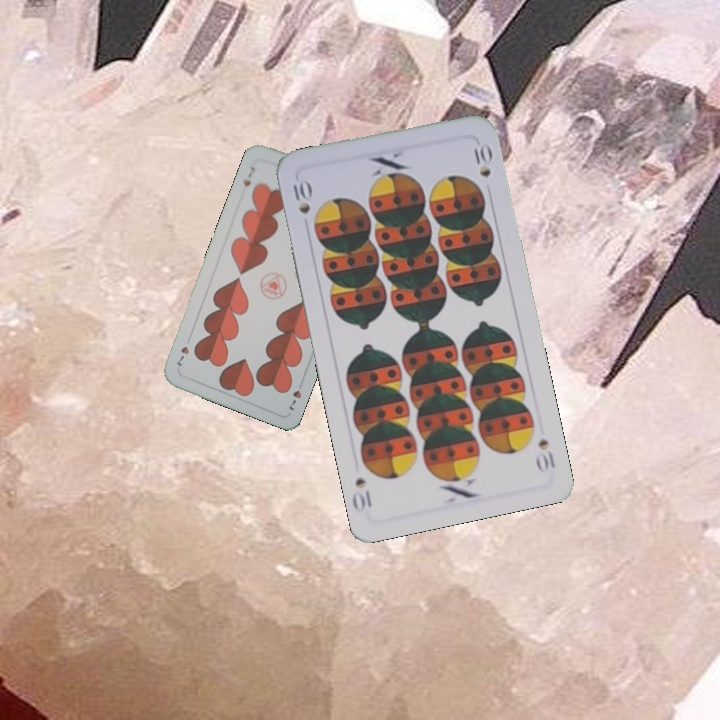H7: (284, 375, 307, 413), (239, 162, 258, 189)
S10: (287, 175, 314, 216), (532, 435, 558, 474)
